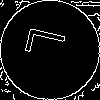L: (25, 25, 76, 63)
